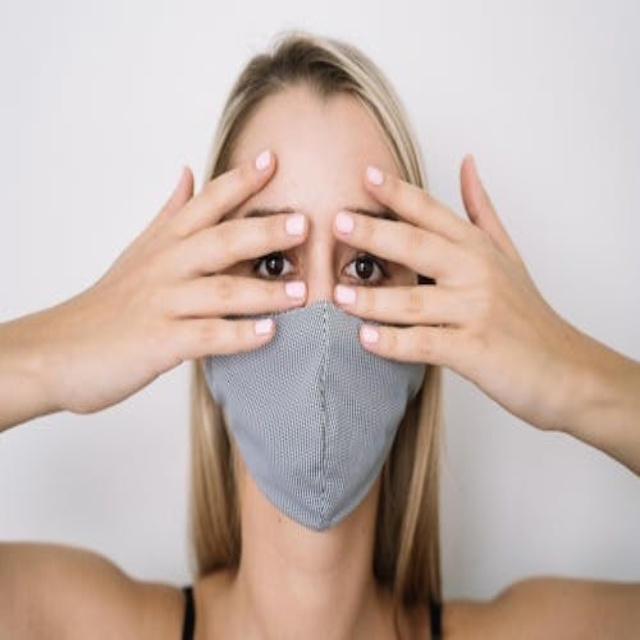Mascara: (202, 299, 427, 532)
Sin_gafas: (233, 202, 401, 300)
Sin_guantes: (334, 150, 630, 458), (27, 149, 309, 426)
